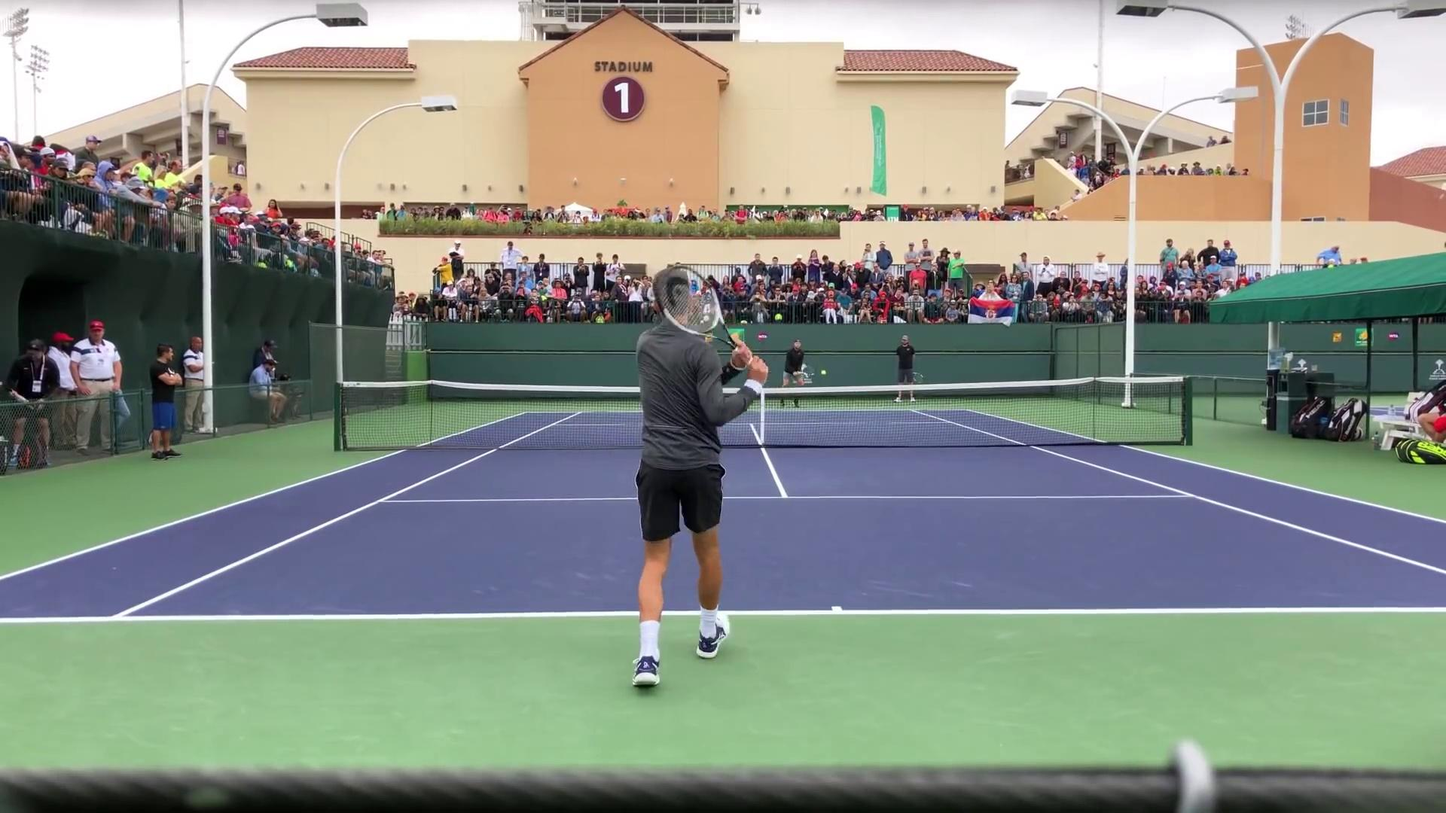ball: (819, 370, 828, 376)
